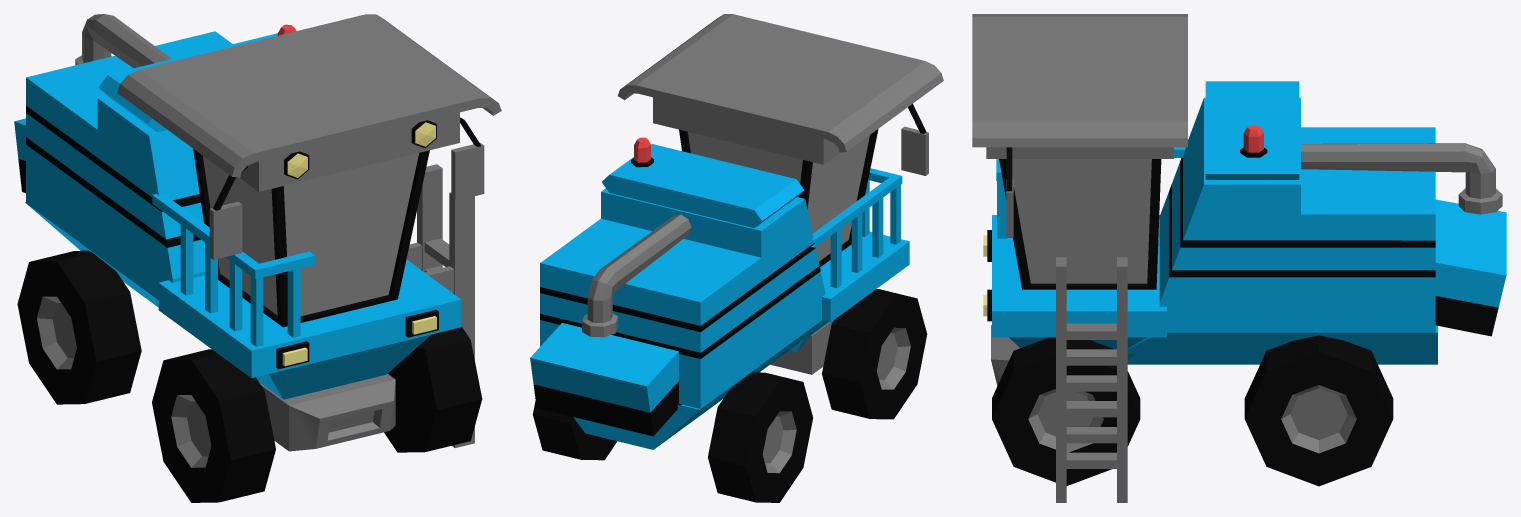
The model's file is harvester tractor.FBX.
The picture shows the model from 3 angles, left to right: view 1: azimuth 30°, elevation 25°; view 2: azimuth 150°, elevation 25°; view 3: azimuth 270°, elevation 25°; orthographic projection. The views are drawn at different scales.
Parts seen in each view (by area): view 1: harvester tractor; view 2: harvester tractor; view 3: harvester tractor.
Part boxes in pixels (box(x1,y1,x2,y2)): harvester tractor: box(14, 14, 501, 502); harvester tractor: box(530, 14, 943, 502); harvester tractor: box(972, 14, 1506, 502).
Bounding box in the file's own units: 2.9 × 3.73 × 4.95.
Materials: 2 (1 with a texture image).
